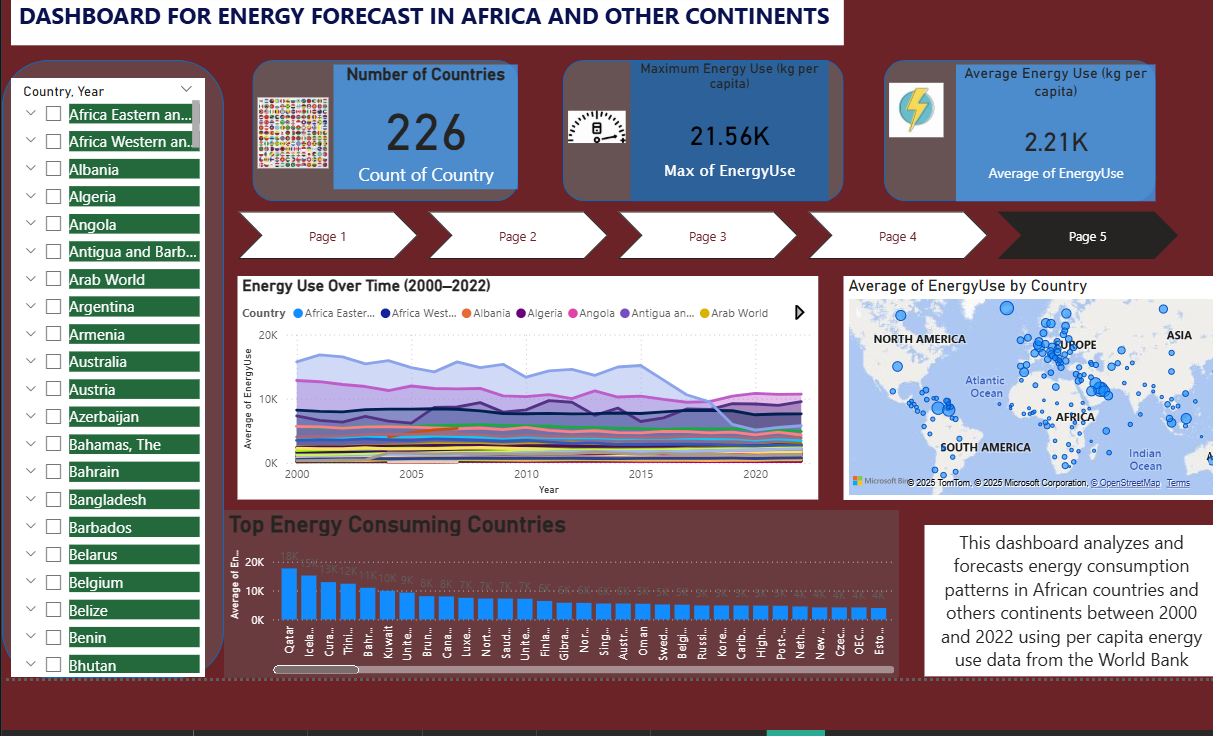

Layout of this report page (visuals, bound fields, positions):
{"tool":"powerbi","page":{"name":"Page 5","canvas":[1280,720],"ordinal":4},"visuals":[{"type":"textbox","box":[10,0,876.4,53.8],"z":0},{"type":"textbox","box":[971.1,559,309.5,159.5],"z":1000},{"type":"shape","box":[0,69.5,233.7,650.5],"z":2000},{"type":"slicer","fields":{"Values":["cleaned_energy_data.Country","cleaned_energy_data.Year"]},"box":[9.5,88.4,203.7,630],"z":3000},{"type":"shape","box":[263.7,69.5,279.5,148.4],"z":3001},{"type":"shape","box":[590.5,69.5,295.3,148.4],"z":3002},{"type":"shape","box":[928.4,69.5,285.8,148.4],"z":3003},{"type":"card","title":"Number of Countries","fields":{"Values":["Count(cleaned_energy_data.Country)"]},"box":[349,74.2,194.2,131.1],"z":3004},{"type":"image","box":[263.7,74.2,85.3,143.7],"z":3005},{"type":"card","title":"Maximum Energy Use (kg per capita)","fields":{"Values":["Max(cleaned_energy_data.EnergyUse)"]},"box":[661.6,69.5,208.4,148.4],"z":3006},{"type":"image","box":[928.4,39.5,67.9,165.8],"z":3007},{"type":"card","title":"Average Energy Use (kg per capita)","fields":{"Values":["Avg(cleaned_energy_data.EnergyUse)"]},"box":[1004.2,74.2,210,143.7],"z":3008},{"type":"lineChart","title":"Energy Use Over Time (2000–2022)","fields":{"Category":["cleaned_energy_data.Year"],"Series":["cleaned_energy_data.Country"],"Y":["Avg(cleaned_energy_data.EnergyUse)"]},"box":[247.9,296.8,611.1,235.3],"z":3009},{"type":"clusteredColumnChart","title":"Top Energy Consuming Countries","fields":{"Category":["cleaned_energy_data.Country"],"Y":["Avg(cleaned_energy_data.EnergyUse)"]},"box":[233.7,543.2,710.5,176.8],"z":3010},{"type":"map","fields":{"Category":["cleaned_energy_data.Country"],"Size":["Avg(cleaned_energy_data.EnergyUse)"]},"box":[885.8,296.8,394.7,235.3],"z":3011},{"type":"pageNavigator","box":[247.9,229,990,50.5],"z":3012},{"type":"image","box":[590.5,74.2,71.1,131.1],"z":3014}]}

Visuals, with their boxes on the page's 1280x720 design canvas (x1, y1, x2, y2). These are canvas units, not pixel positions in the 1213x736 screenshot, which may show the page scaled, cropped or inside an application window:
textbox: region(10, 0, 886, 54)
textbox: region(971, 559, 1281, 718)
shape: region(0, 70, 234, 720)
slicer - cleaned_energy_data.Country x cleaned_energy_data.Year: region(10, 88, 213, 718)
shape: region(264, 70, 543, 218)
shape: region(590, 70, 886, 218)
shape: region(928, 70, 1214, 218)
"Number of Countries" card: region(349, 74, 543, 205)
image: region(264, 74, 349, 218)
"Maximum Energy Use (kg per capita)" card: region(662, 70, 870, 218)
image: region(928, 40, 996, 205)
"Average Energy Use (kg per capita)" card: region(1004, 74, 1214, 218)
"Energy Use Over Time (2000–2022)" lineChart: region(248, 297, 859, 532)
"Top Energy Consuming Countries" clusteredColumnChart: region(234, 543, 944, 720)
map - cleaned_energy_data.Country x Avg(cleaned_energy_data.EnergyUse): region(886, 297, 1280, 532)
pageNavigator: region(248, 229, 1238, 280)
image: region(590, 74, 662, 205)
